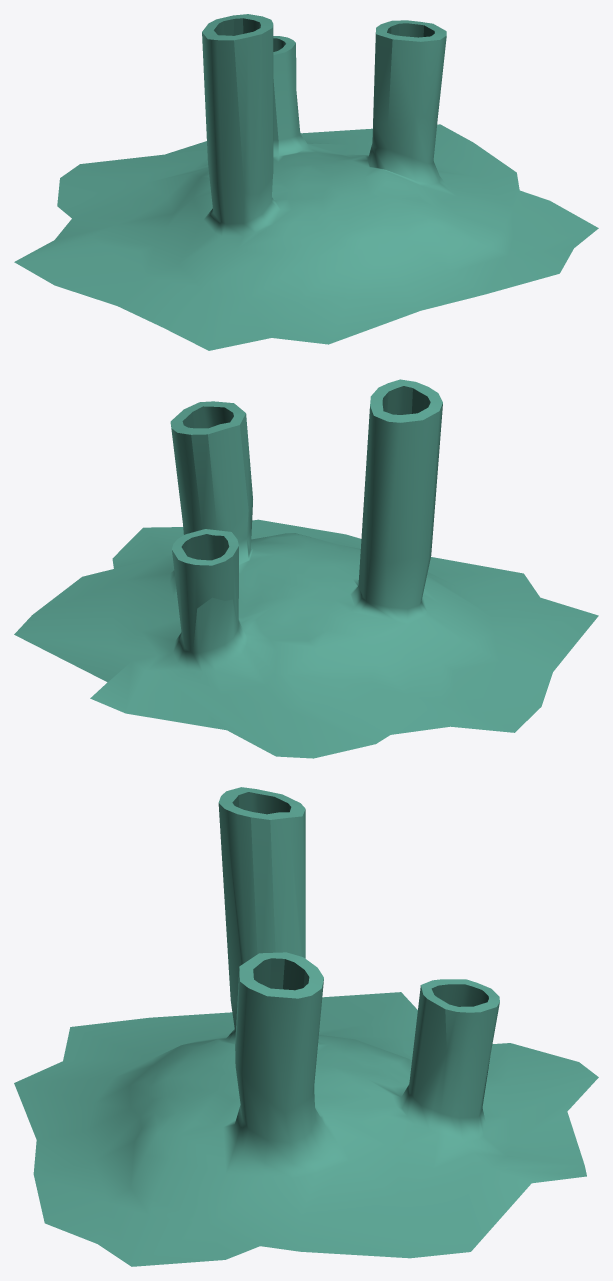
The model's file is coral_tube_B_light.fbx.
The picture shows the model from 3 angles, top to bottom: view 1: azimuth 30°, elevation 25°; view 2: azimuth 150°, elevation 25°; view 3: azimuth 270°, elevation 25°; orthographic projection. The views are drawn at different scales.
Parts seen in each view (by area): view 1: coral_tube_B_light; view 2: coral_tube_B_light; view 3: coral_tube_B_light.
Part boxes in pixels (x1=…): coral_tube_B_light: x1=14, y1=14, x2=598, y2=350; coral_tube_B_light: x1=14, y1=379, x2=598, y2=758; coral_tube_B_light: x1=14, y1=787, x2=598, y2=1266.
Size of the model in its own units: 97.76 by 48.37 by 87.56.
